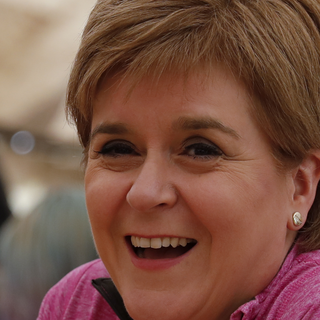eye: (171, 139, 226, 167), (93, 134, 143, 161)
